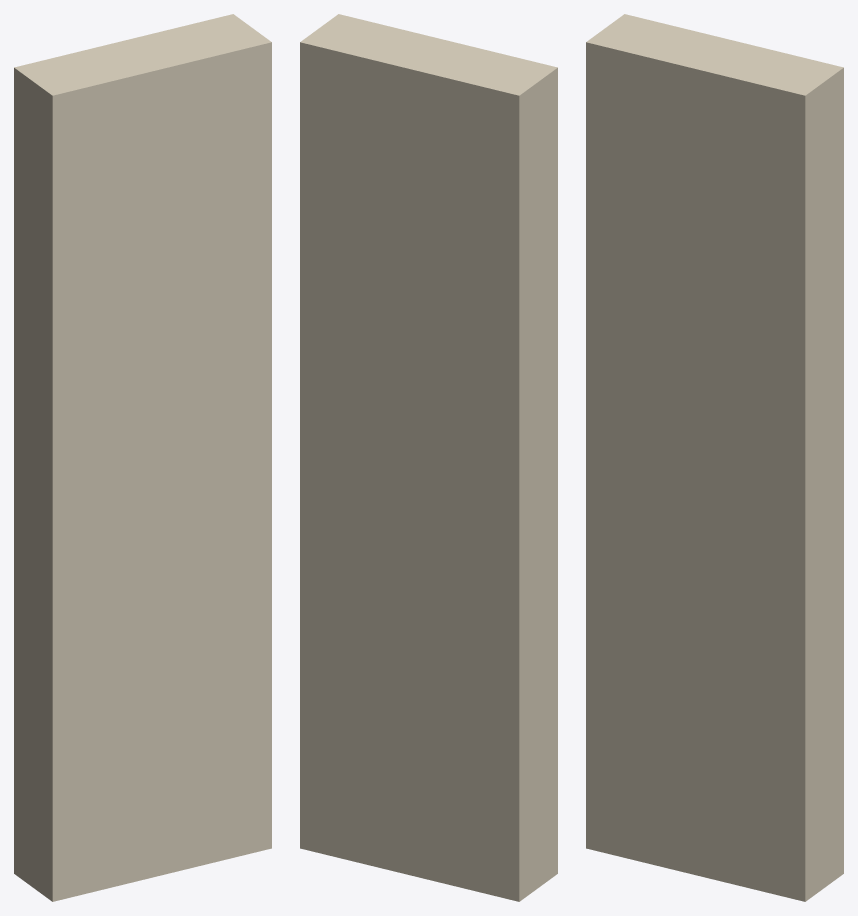
3 views of the same model, side by side, from view 1: azimuth 30°, elevation 25°; view 2: azimuth 150°, elevation 25°; view 3: azimuth 330°, elevation 25° (orthographic).
Visible parts, largest first — view 1: A-FF-WALL-009; view 2: A-FF-WALL-009; view 3: A-FF-WALL-009.
Boxes of the visible parts, box(x1,y1,x2,y2) form: A-FF-WALL-009: box(14, 14, 271, 901); A-FF-WALL-009: box(300, 14, 557, 901); A-FF-WALL-009: box(586, 14, 843, 901).
Size of the model in its own units: 0.689 by 2.42 by 0.21.
